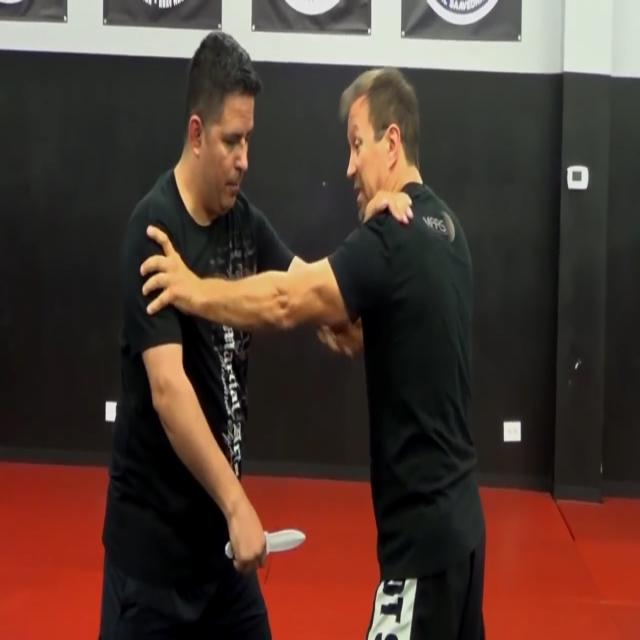knife: (223, 529, 311, 557)
